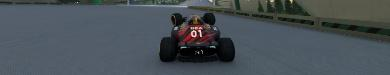Car: (158, 12, 235, 62)
curve: (0, 4, 389, 73)
obstacles-Borders: (187, 5, 389, 42)
